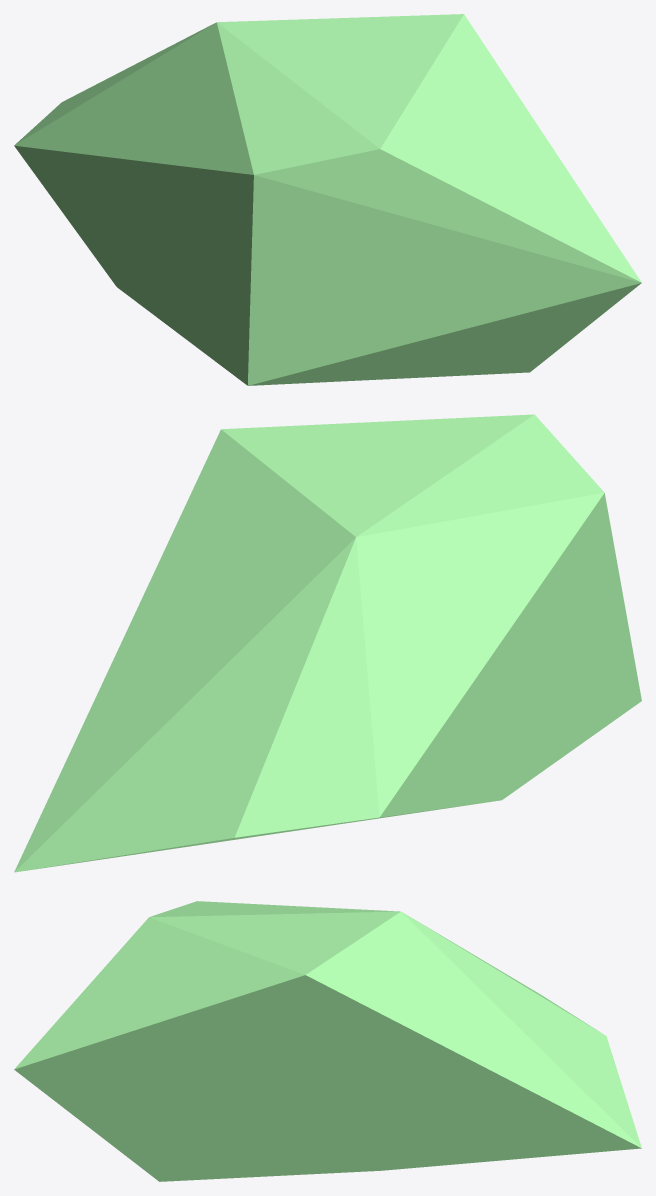
The model's file is UMIRobot_UMIRobot_link_5_convex_coll_49.dae.
3 views of the same model, one above another, from view 1: azimuth 30°, elevation 25°; view 2: azimuth 150°, elevation 25°; view 3: azimuth 270°, elevation 25° (orthographic). The views are drawn at different scales.
Visible parts, largest first — view 1: node; view 2: node; view 3: node.
Part boxes in pixels (x1=…): node: x1=14, y1=14, x2=641, y2=385; node: x1=14, y1=414, x2=641, y2=872; node: x1=14, y1=901, x2=641, y2=1181.
Size of the model in its own units: 0.0033 by 0.00294 by 0.00769.
